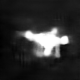plane: (17, 26, 72, 59)
